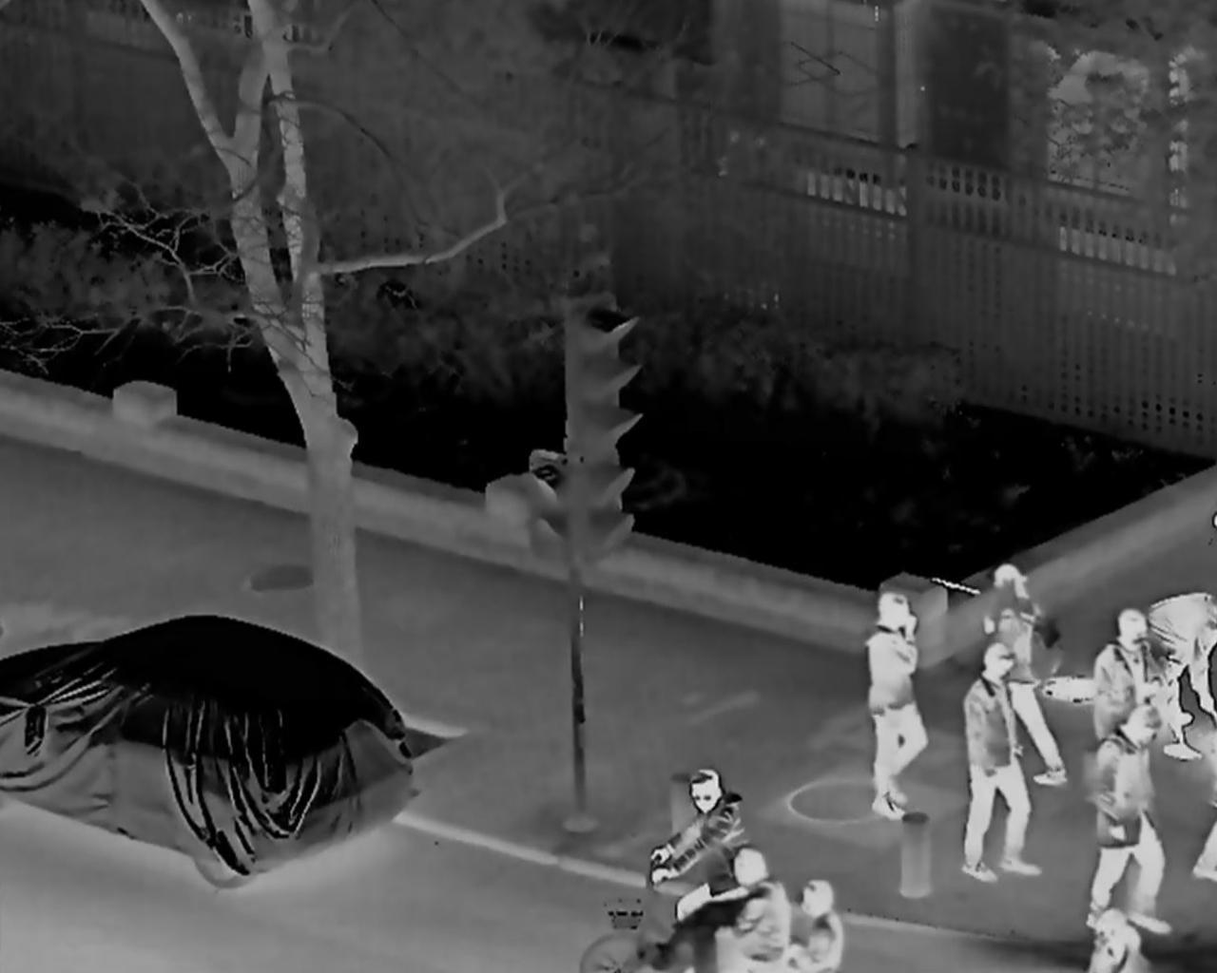person: (951, 646, 1043, 883), (981, 565, 1068, 791), (643, 770, 753, 948), (1085, 706, 1169, 937), (1092, 611, 1164, 810), (866, 595, 927, 819), (1148, 590, 1216, 767), (694, 850, 791, 970), (782, 875, 845, 972)
